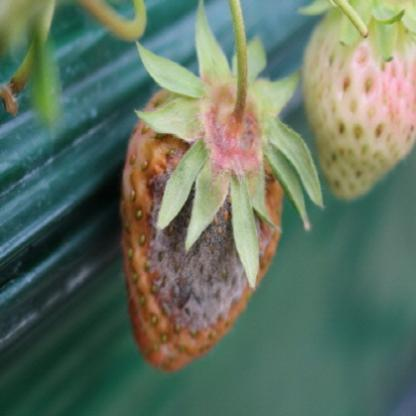Strawberry_Gray_Mold: (122, 91, 288, 357)
